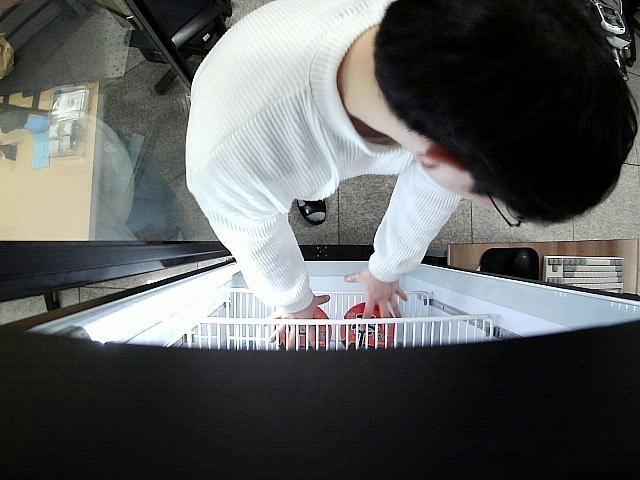01_ShinRamen_L: (342, 303, 392, 350), (281, 306, 332, 352)
